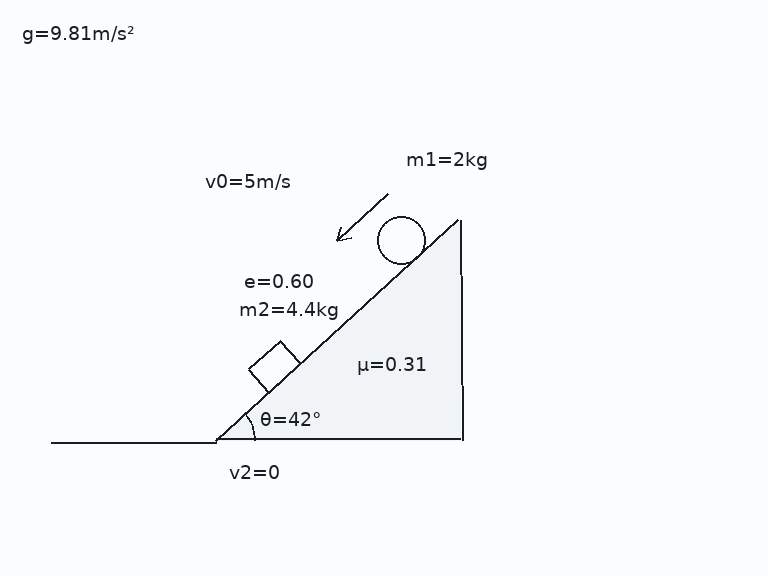ball: (375, 214, 427, 266)
block: (246, 339, 302, 394)
ramp: (213, 217, 462, 442)
